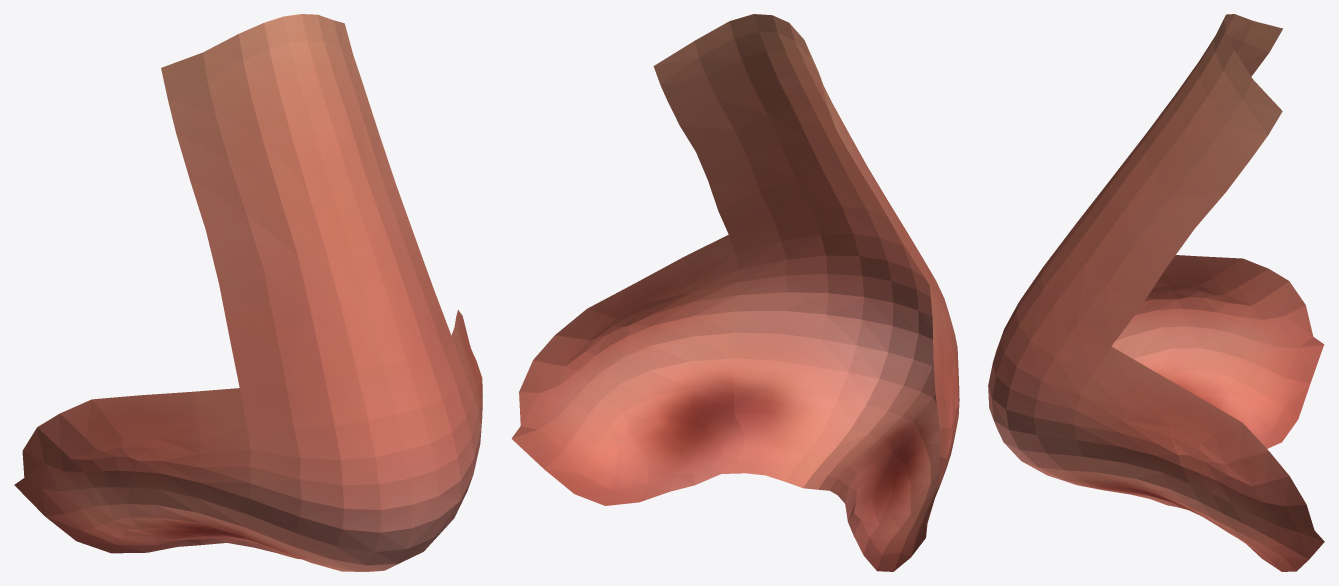
Rendered from euro-nose-up.obj.
3 renders of one model, left to right at view 1: azimuth 30°, elevation 25°; view 2: azimuth 150°, elevation 25°; view 3: azimuth 270°, elevation 25°, orthographic. The views are drawn at different scales.
Visible parts, largest first — view 1: euro-nose-up.001; view 2: euro-nose-up.001; view 3: euro-nose-up.001.
Part boxes in pixels (<box>): euro-nose-up.001: <box>14,14,482,571</box>; euro-nose-up.001: <box>511,14,959,571</box>; euro-nose-up.001: <box>988,14,1324,571</box>.
Size of the model in its own units: 0.332 by 0.3816 by 0.2394.
Materials: 1 (1 with a texture image).
